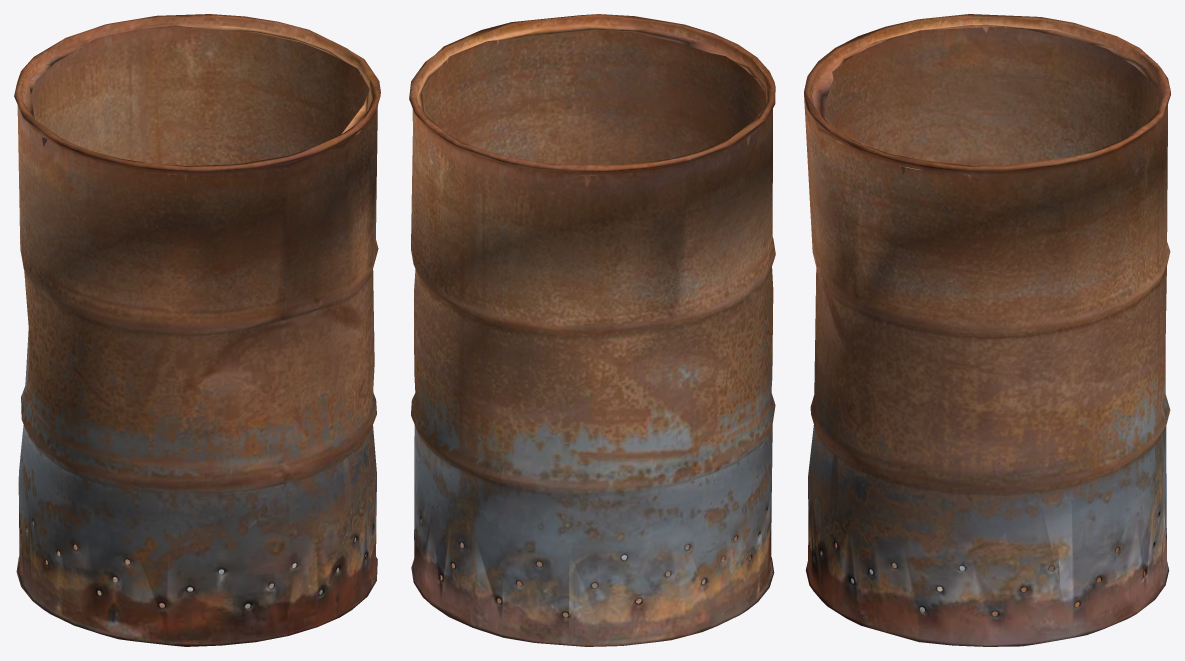
File: stove.glb
3 renders of one model, left to right at view 1: azimuth 30°, elevation 25°; view 2: azimuth 150°, elevation 25°; view 3: azimuth 270°, elevation 25°, orthographic.
Visible parts, largest first — view 1: barrel_stove; view 2: barrel_stove; view 3: barrel_stove.
Part boxes in pixels (box(x1,y1,x2,y2)): barrel_stove: box(14, 14, 380, 646); barrel_stove: box(409, 14, 775, 646); barrel_stove: box(804, 14, 1170, 646).
Size of the model in its own units: 0.5886 by 0.8556 by 0.5903.
Materials: 1 (1 with a texture image).
